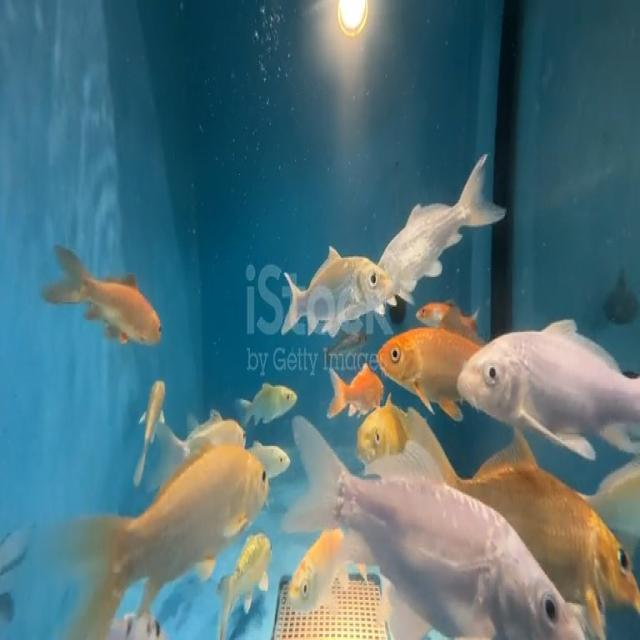fish: (297, 418, 577, 640), (74, 444, 282, 608), (474, 432, 640, 612), (456, 311, 640, 452), (370, 155, 512, 289), (42, 238, 166, 356), (277, 244, 393, 331), (374, 319, 476, 413), (287, 519, 360, 629), (348, 402, 423, 461), (133, 370, 172, 480), (179, 413, 245, 460), (326, 361, 383, 415), (234, 378, 300, 423), (414, 297, 474, 334), (256, 438, 292, 480)
